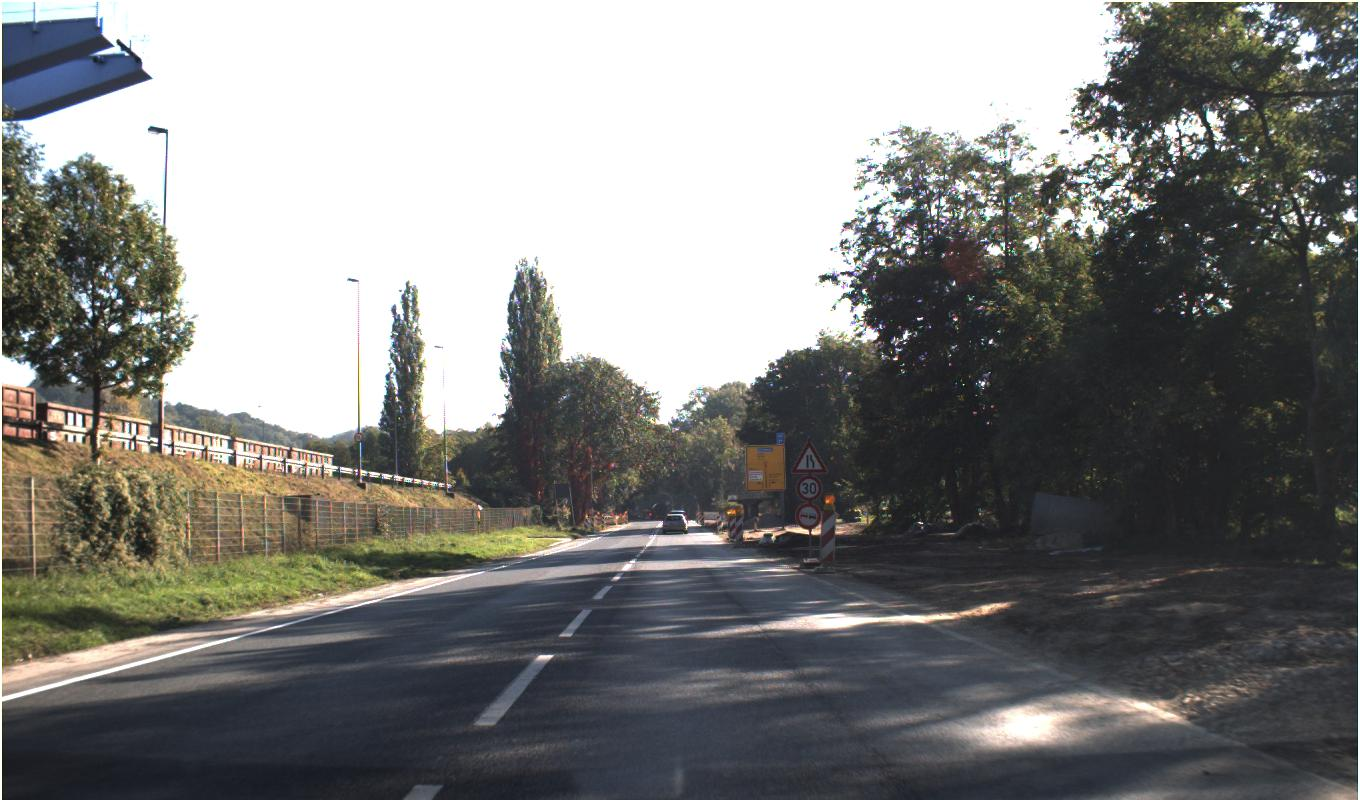danger: (788, 437, 828, 473)
prohibitory: (794, 474, 822, 502), (794, 503, 821, 529)
